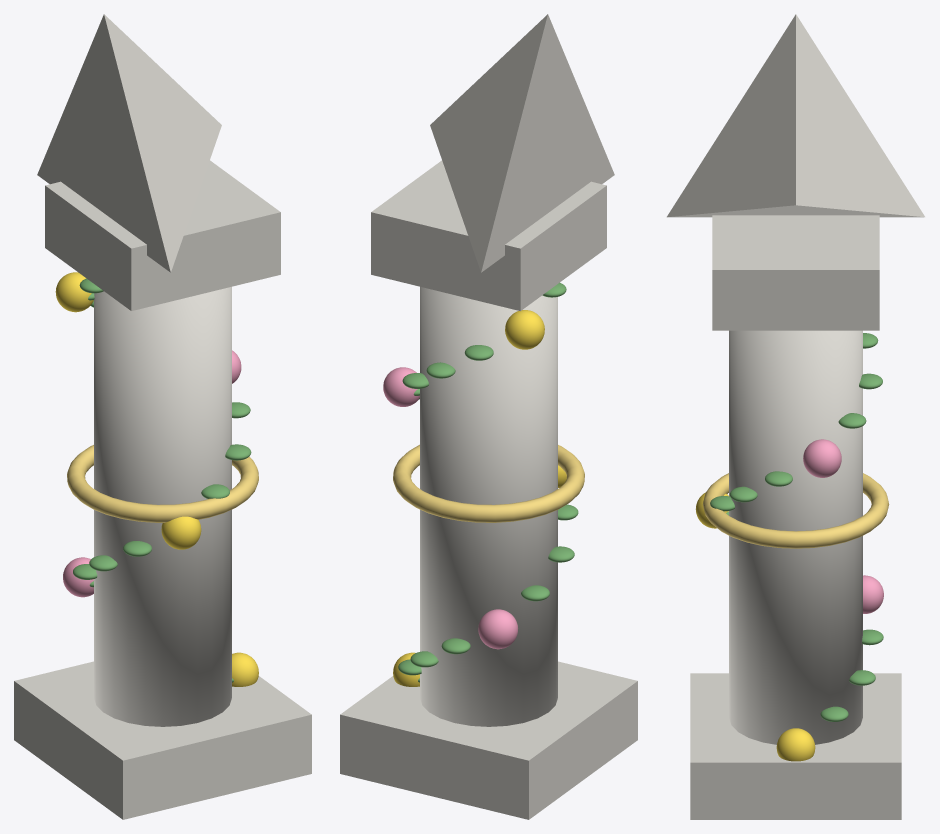
File: accent_column_pediment.glb
3 renders of one model, left to right at view 1: azimuth 30°, elevation 25°; view 2: azimuth 150°, elevation 25°; view 3: azimuth 270°, elevation 25°, orthographic. The views are drawn at different scales.
Parts seen in each view (by area): view 1: Cylinder, Cube, Cone, Cube.001, Torus, Sphere.011, Sphere.021, Sphere.001, Sphere.006; view 2: Cylinder, Cube, Cone, Cube.001, Torus, Sphere.006, Sphere.021, Sphere.016; view 3: Cylinder, Cone, Cube, Cube.001, Torus, Sphere.016, Sphere.001, Sphere.006.
Boxes of the visible parts, <box> form: Cylinder: <box>94,286,231,726</box>; Cube: <box>14,661,311,819</box>; Cone: <box>37,14,221,272</box>; Cube.001: <box>45,160,280,310</box>; Torus: <box>67,445,258,522</box>; Sphere.011: <box>161,516,201,549</box>; Sphere.021: <box>55,272,93,312</box>; Sphere.001: <box>232,652,258,686</box>; Sphere.006: <box>63,557,93,597</box>; Cylinder: <box>420,286,557,726</box>; Cube: <box>340,661,637,819</box>; Cone: <box>430,14,614,272</box>; Cube.001: <box>371,160,606,310</box>; Torus: <box>393,444,584,522</box>; Sphere.006: <box>478,609,518,649</box>; Sphere.021: <box>505,310,544,349</box>; Sphere.016: <box>383,367,419,406</box>; Cylinder: <box>729,330,862,744</box>; Cone: <box>667,14,924,217</box>; Cube: <box>690,673,901,819</box>; Cube.001: <box>712,215,879,330</box>; Torus: <box>702,473,889,548</box>; Sphere.016: <box>803,439,841,477</box>; Sphere.001: <box>776,728,815,761</box>; Sphere.006: <box>863,575,883,613</box>.
Size of the model in its own units: 1.2 by 4.6 by 1.47.
